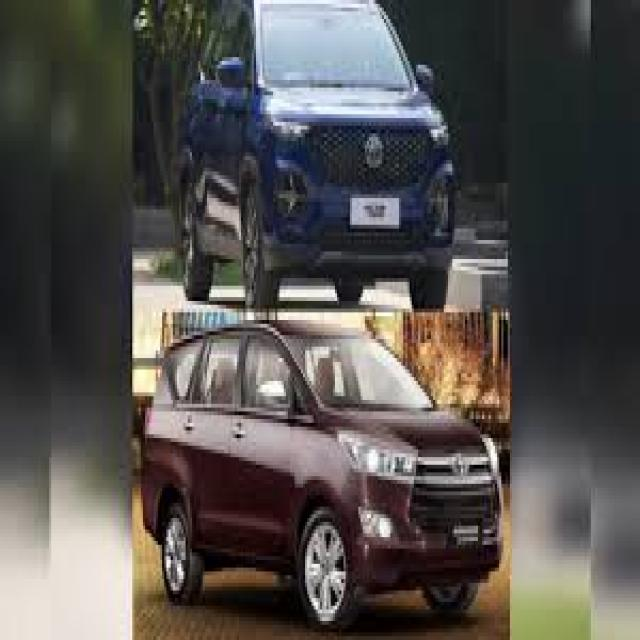light_vehicle: (142, 321, 504, 632), (174, 0, 456, 311)
